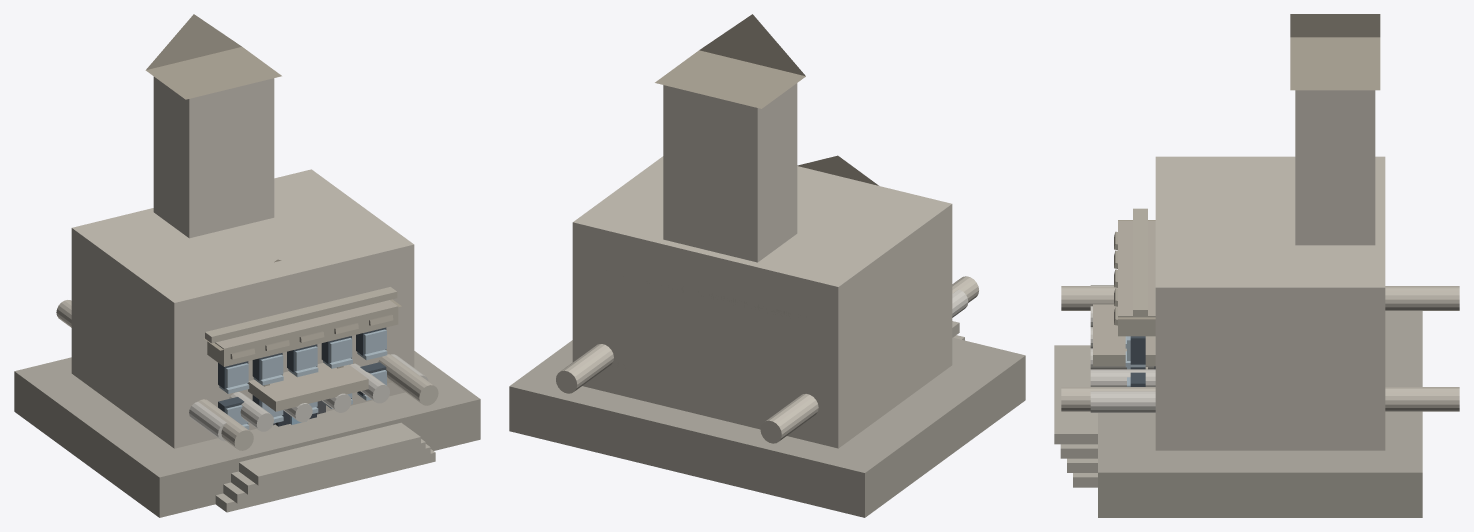
The model's file is bank.glb.
3 renders of one model, left to right at view 1: azimuth 30°, elevation 25°; view 2: azimuth 150°, elevation 25°; view 3: azimuth 270°, elevation 25°, orthographic. The views are drawn at different scales.
Parts seen in each view (by area): view 1: world; view 2: world; view 3: world.
Boxes of the visible parts, bbox=[...] form: world: bbox=[14, 14, 480, 517]; world: bbox=[509, 14, 1025, 517]; world: bbox=[1054, 14, 1459, 517].
Size of the model in its own units: 1.66 by 1.89 by 1.62.
